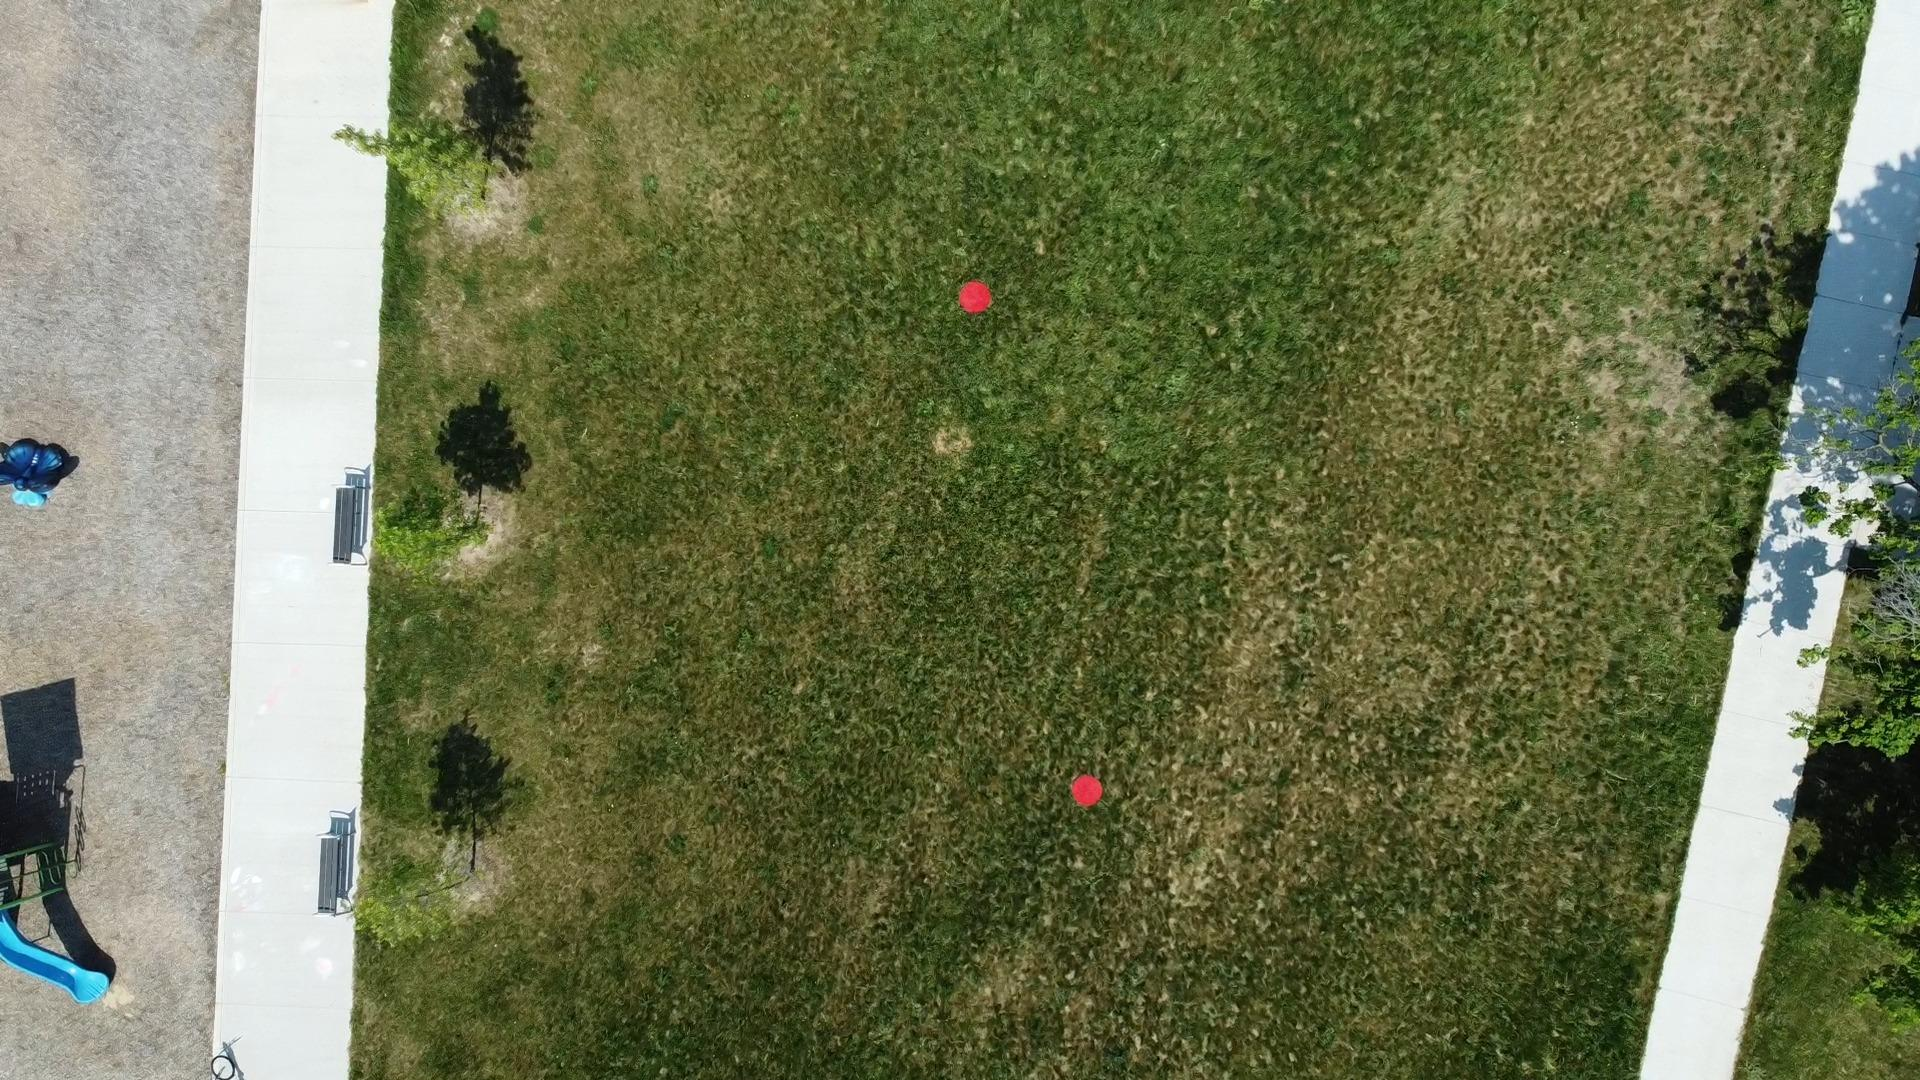Red: (957, 278, 994, 316), (1069, 773, 1105, 808)
